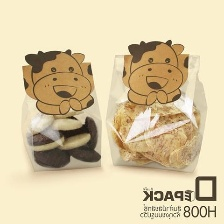snack: (100, 31, 214, 178), (14, 42, 108, 175)
